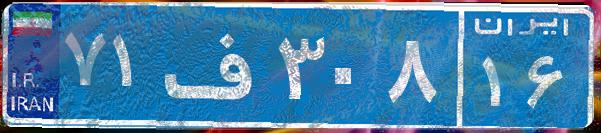0: (330, 28, 385, 110)
1: (475, 38, 525, 113), (110, 28, 158, 105)
3: (273, 28, 330, 110)
6: (525, 38, 570, 115)
7: (57, 26, 110, 107)
8: (385, 28, 445, 110)
ف: (158, 15, 273, 115)
